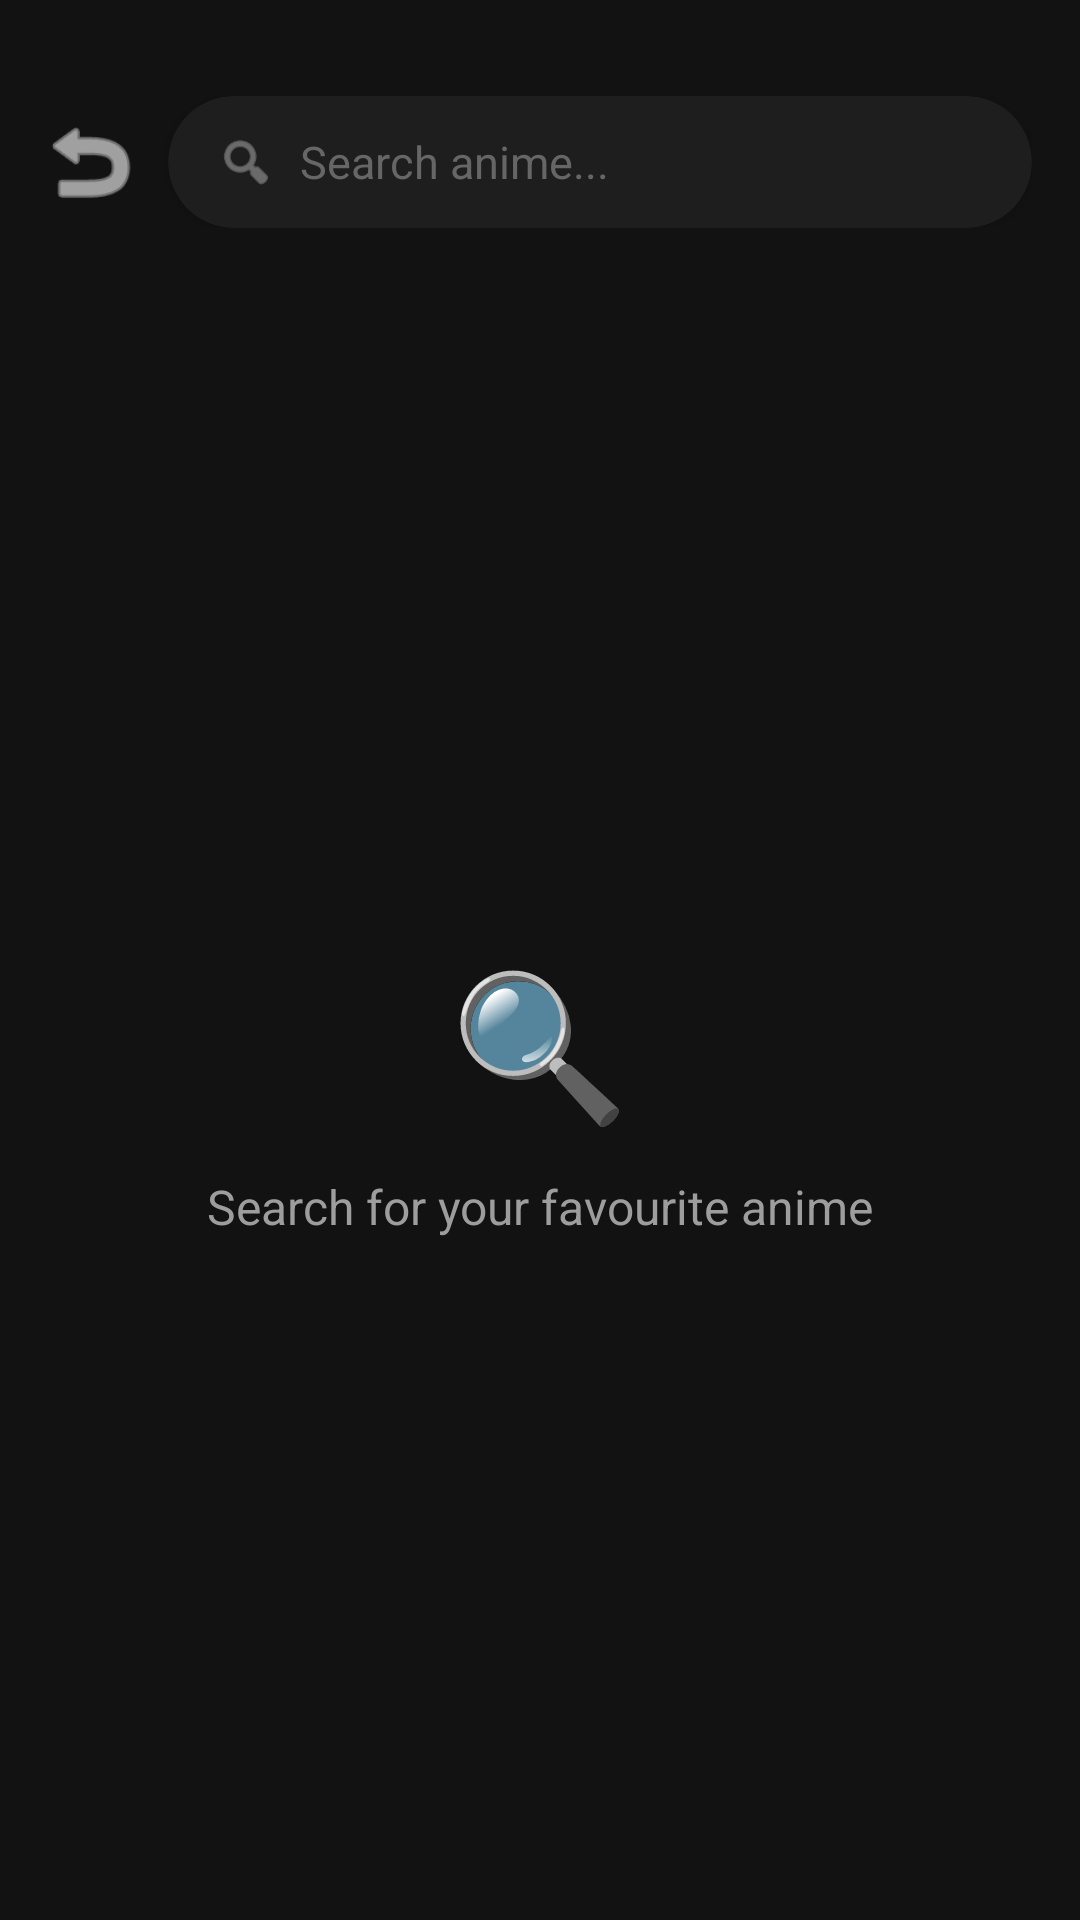

Screen size 1080px x 1920px. Icon name, then its center in pixels as [x,y]:
Back: [91,163]
